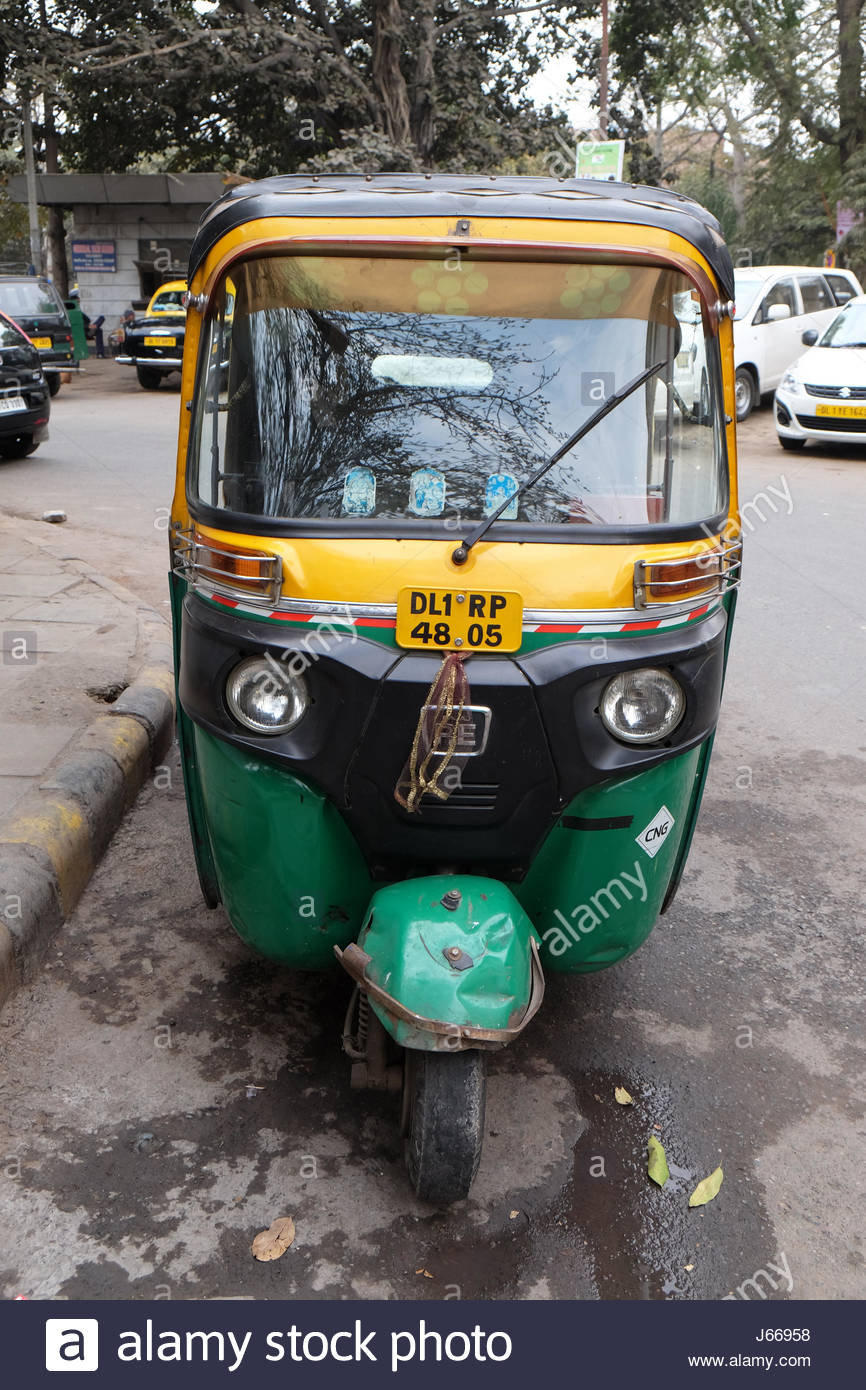doublelinenumberplate: (394, 584, 526, 654)
